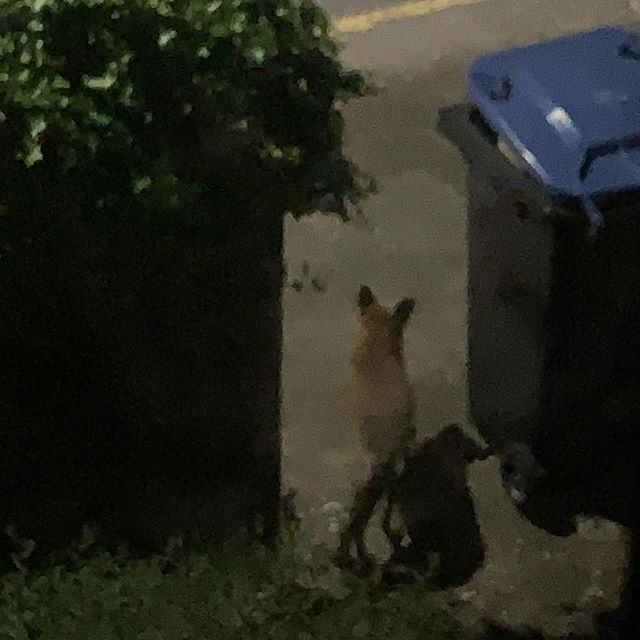animal: (331, 291, 432, 540)
trash can: (436, 46, 640, 523)
